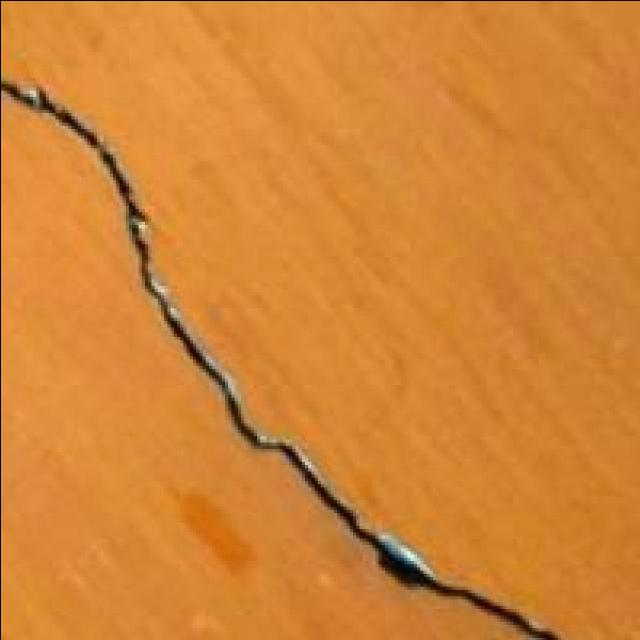SurfaceCrack: (0, 64, 580, 640)
